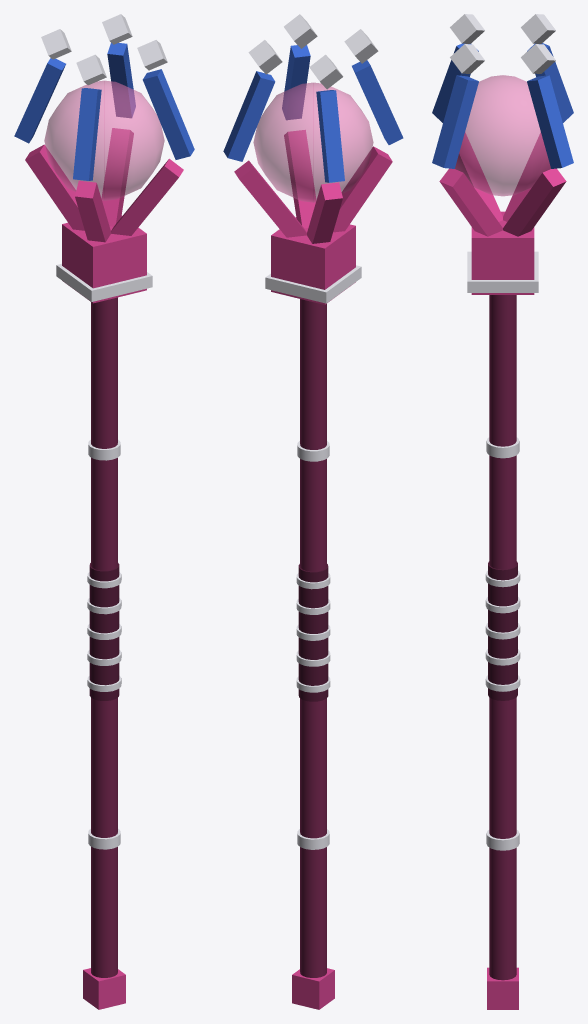
3 views of the same model, side by side, from view 1: azimuth 30°, elevation 25°; view 2: azimuth 150°, elevation 25°; view 3: azimuth 270°, elevation 25° (orthographic).
Visible parts, largest first — view 1: duality-staff; view 2: duality-staff; view 3: duality-staff.
Boxes of the visible parts, x1=… form: duality-staff: x1=14, y1=14, x2=194, y2=1009; duality-staff: x1=223, y1=14, x2=403, y2=1009; duality-staff: x1=432, y1=14, x2=573, y2=1009.
Size of the model in its own units: 0.1929 by 1.46 by 0.1929.
